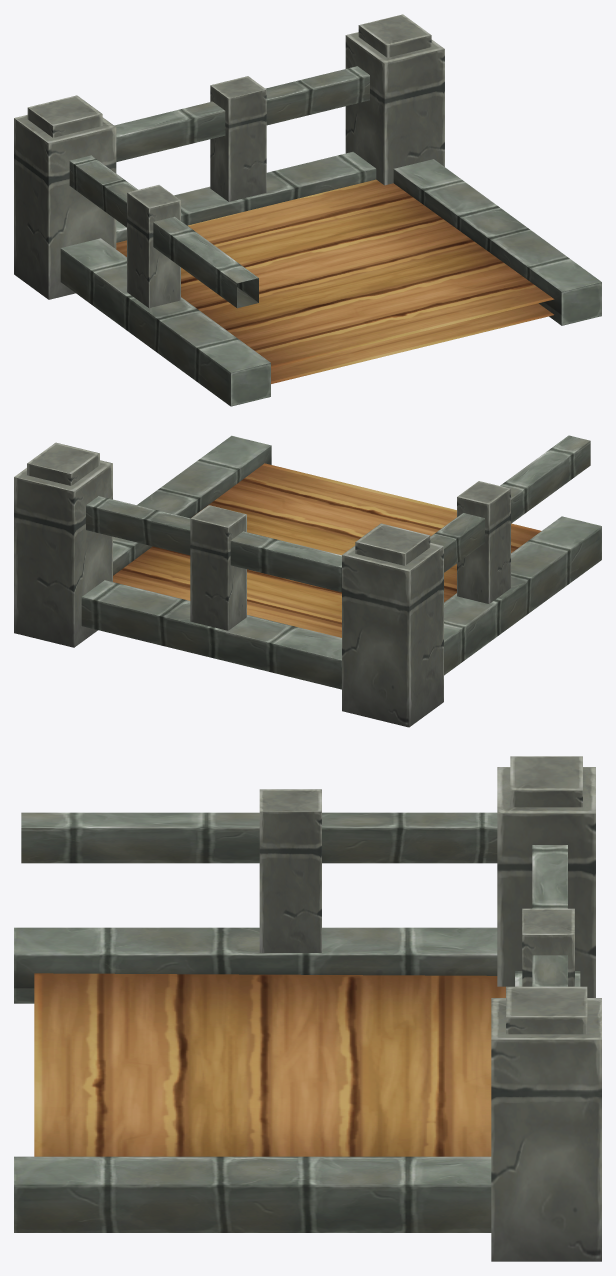
The model's file is bridge_03_tile_05.fbx.
3 views of the same model, one above another, from view 1: azimuth 30°, elevation 25°; view 2: azimuth 150°, elevation 25°; view 3: azimuth 270°, elevation 25° (orthographic). The views are drawn at different scales.
Visible parts, largest first — view 1: bridge_03_tile_05; view 2: bridge_03_tile_05; view 3: bridge_03_tile_05.
Boxes of the visible parts, x1,y1,x2,y2 form: bridge_03_tile_05: (14, 14, 601, 406); bridge_03_tile_05: (14, 435, 601, 727); bridge_03_tile_05: (14, 756, 601, 1261).
Size of the model in its own units: 2.43 by 0.9898 by 2.21.
